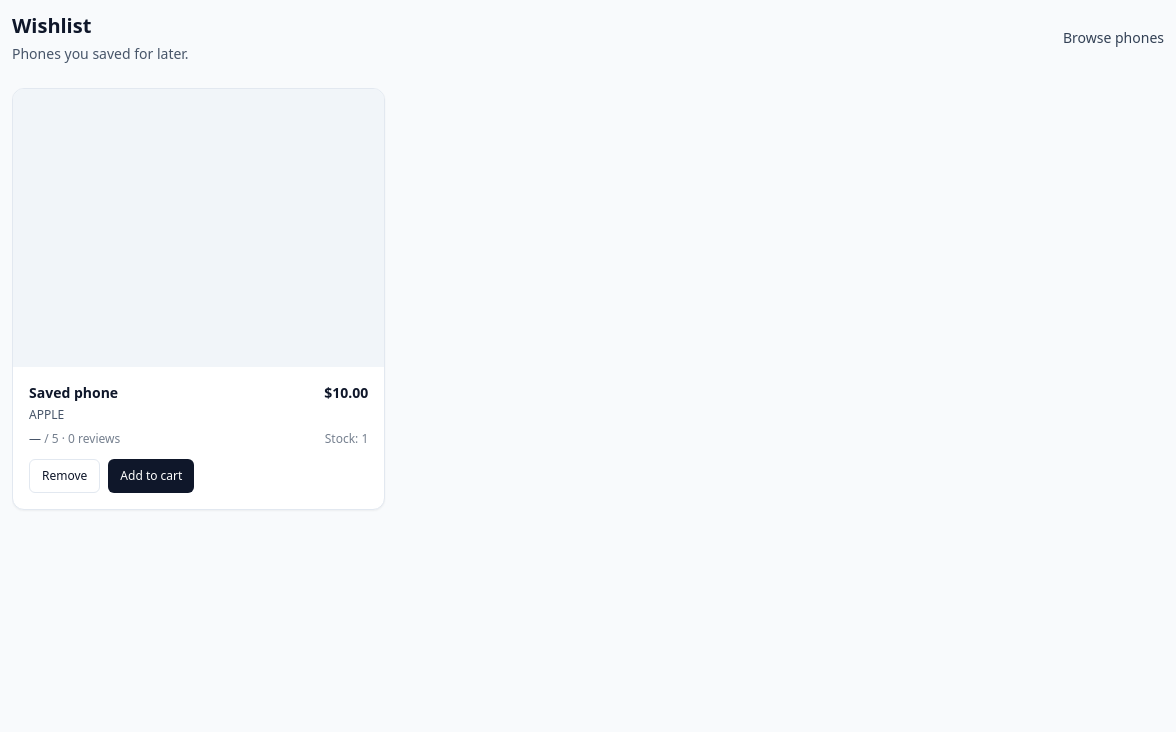
it: WishlistPage › renders wishlist items and allows removing an item
Expected: the link "Saved phone" is shown, [29,384,118,404]
Click the button "Remove" at (65, 476), box [29,460,100,494]
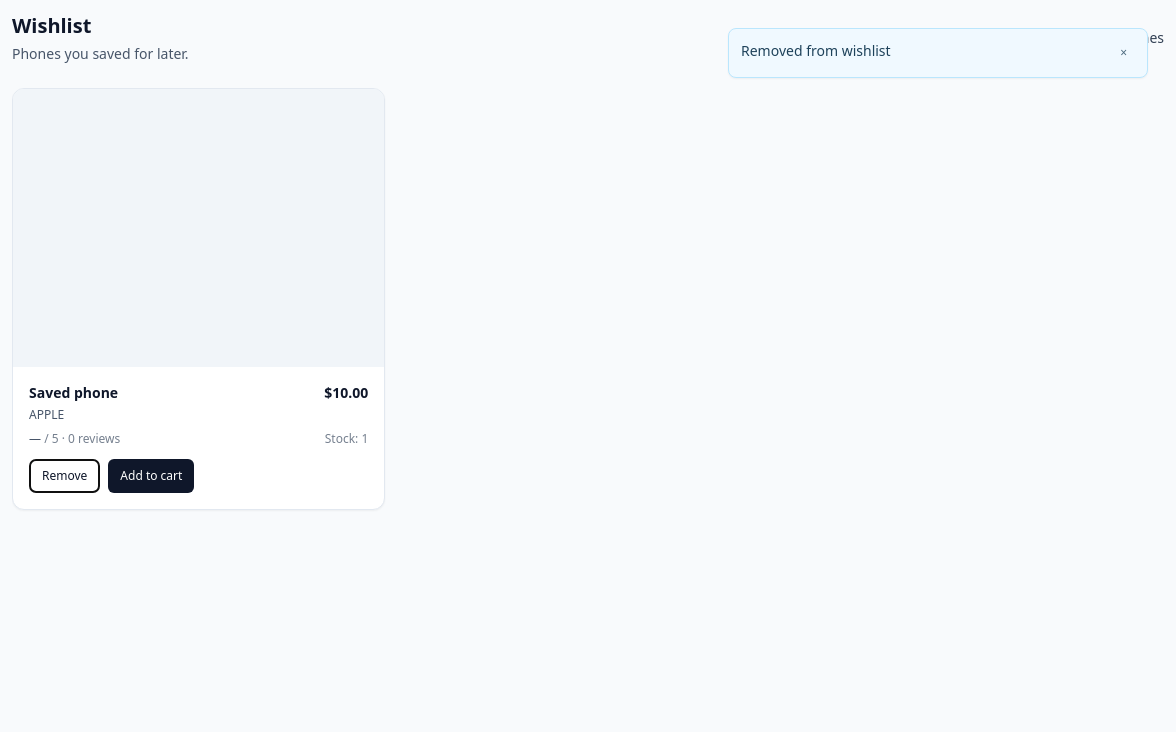
Now the text "Removed from wishlist" is shown, box [741,41,891,60]
